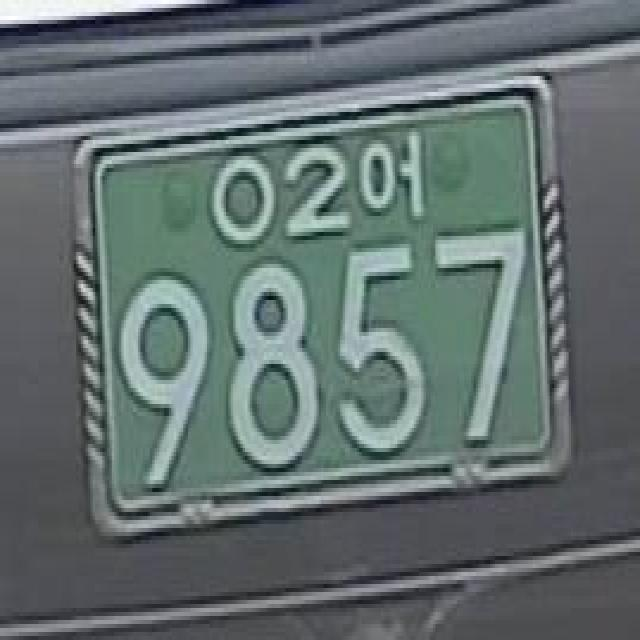illegal_plate: (70, 77, 583, 550)
